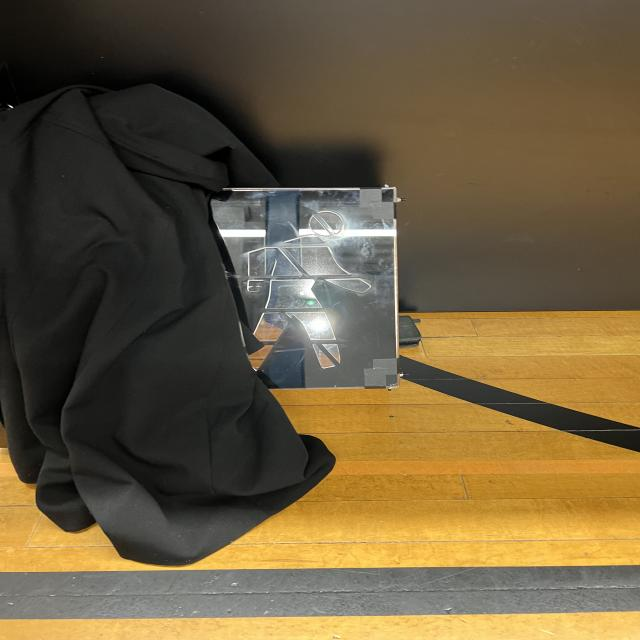go: (212, 185, 391, 388)
